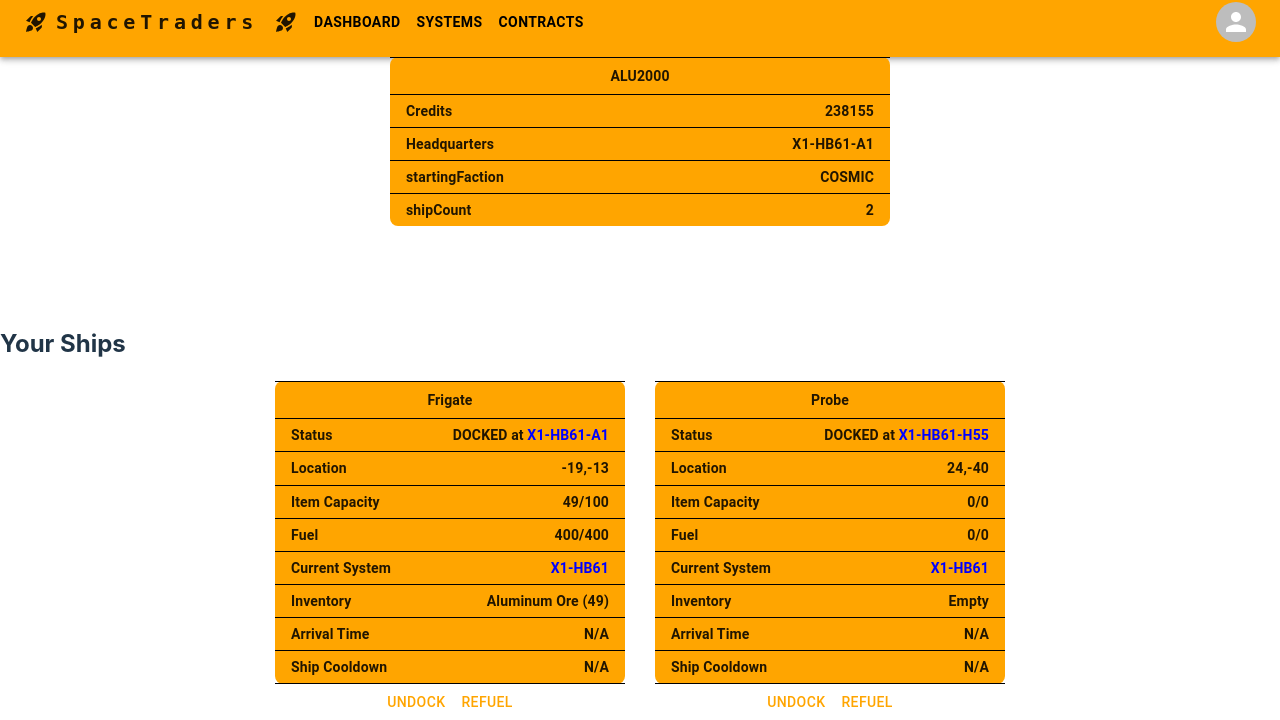
Should extract ore
(page scrolled)
Expected: the text "X1-HB61-A1" is shown, [527,428,609,444]
Expected: the text "400/400" is shown, [554,526,609,542]
Click the button with test id "test-undock-ALU2000-1" at (416, 702), box [379,684,454,719]
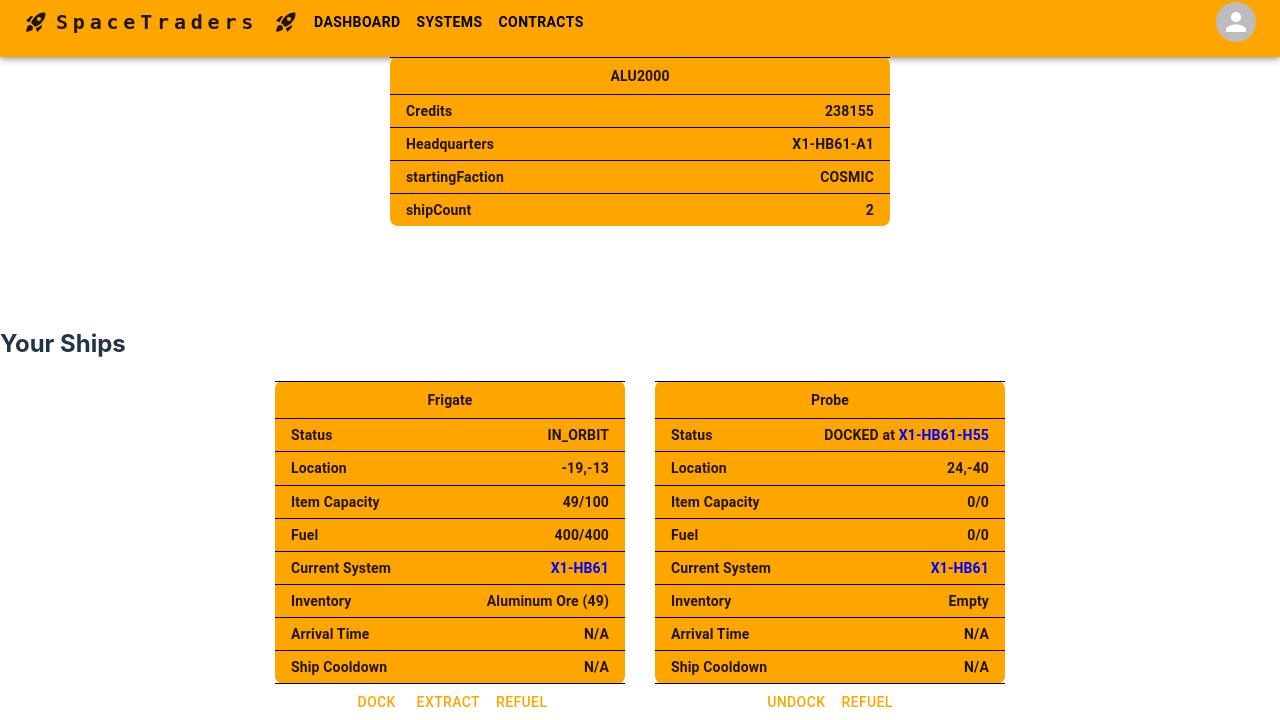
Expected: the button with test id "test-extract-ALU2000-1" is shown
Click the button with test id "test-extract-ALU2000-1" at (448, 702), box [409,684,488,719]
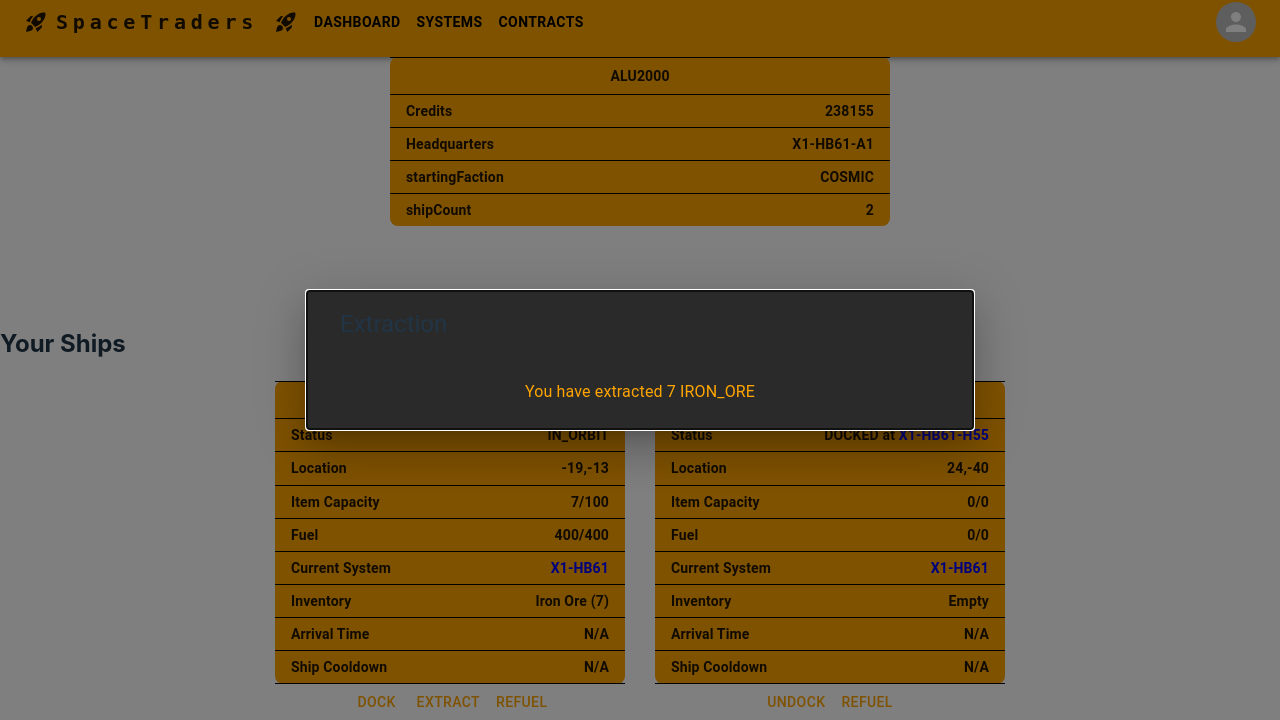
Expected: the heading "Extraction" is shown, [340,310,447,338]
Expected: the text "You have extracted 7 IRON_ORE" is shown, [525,382,755,401]
